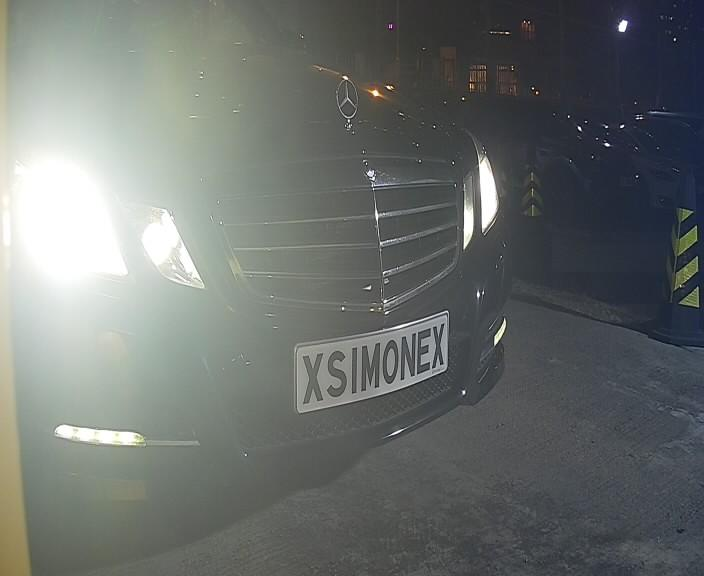License Plate: (296, 312, 453, 415)
